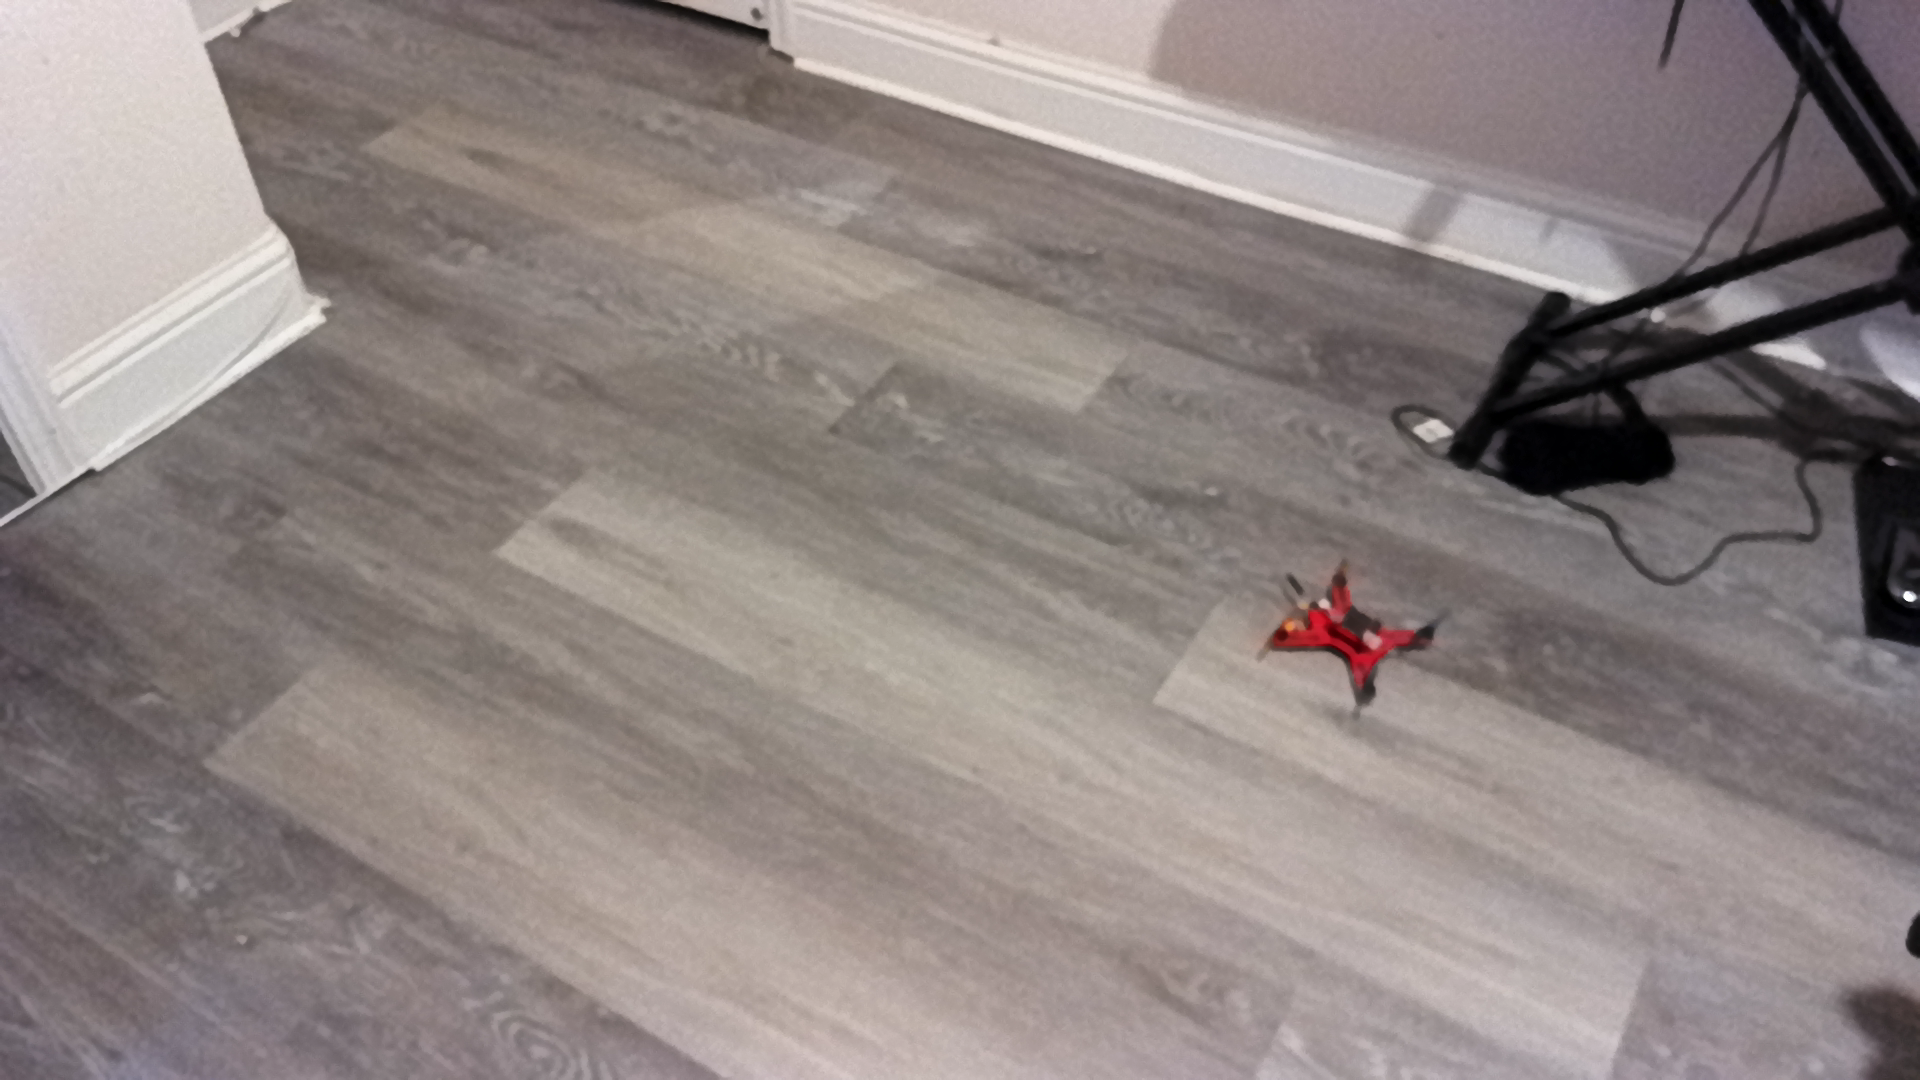drone: (1244, 546, 1487, 713)
